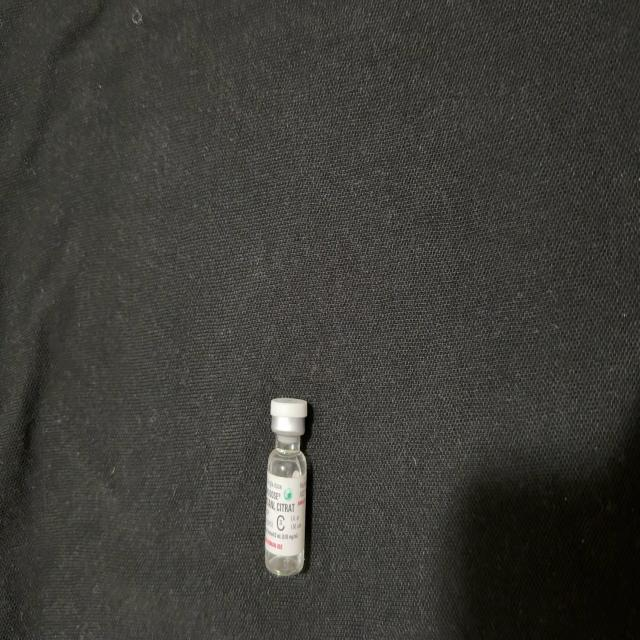fentanl_citrat: (265, 401, 308, 574)
